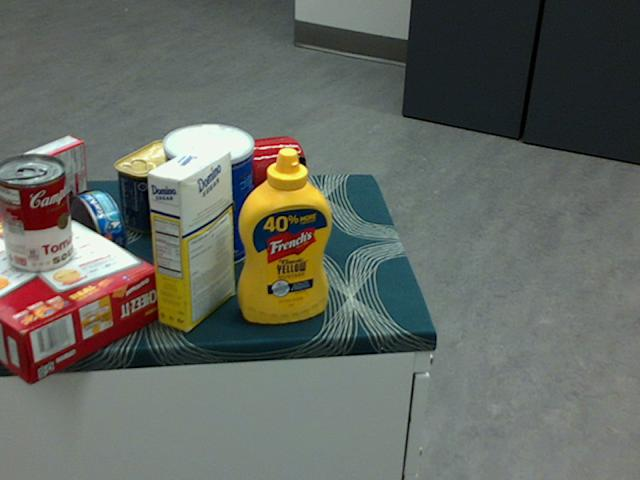cracker_box: (0, 197, 161, 383)
gelatin_box: (17, 135, 87, 213)
large_marker: (290, 154, 306, 247)
master_chef_can: (160, 122, 251, 268)
mug: (222, 135, 305, 207)
mustard_bottle: (237, 146, 332, 322)
potted_meat_can: (112, 138, 189, 233)
sugar_box: (145, 143, 235, 330)
tomato_soup_can: (0, 154, 73, 272)
tuna_fish_can: (64, 190, 124, 268)
